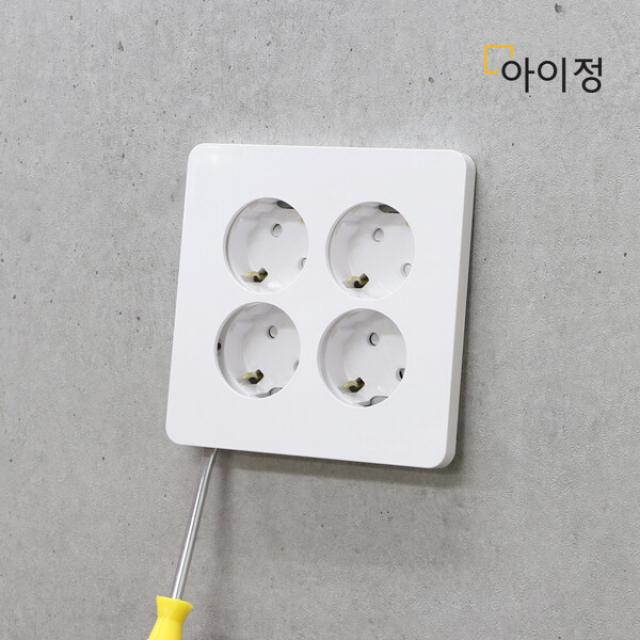typeb: (162, 127, 497, 482)
